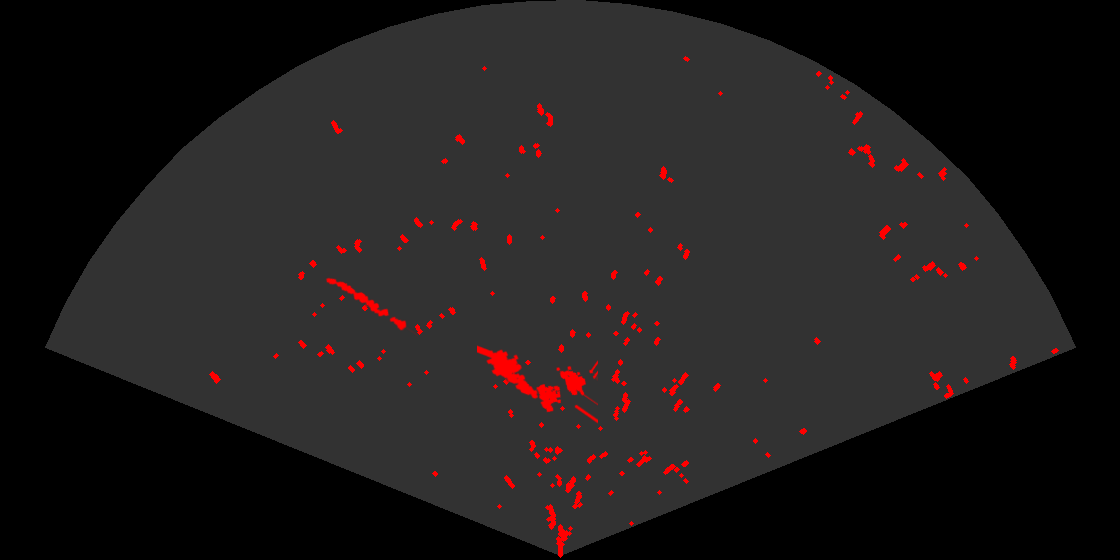cage: (534, 359, 598, 425)
chain: (324, 276, 418, 337)
frogman: (477, 344, 540, 401)
